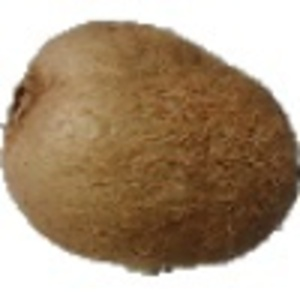kiwi: (1, 1, 300, 278)
